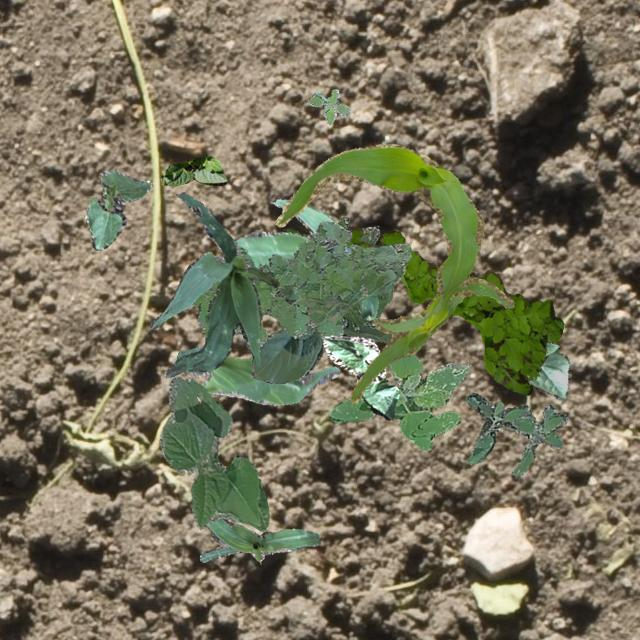crop: (274, 142, 512, 402), (148, 190, 278, 376), (251, 215, 391, 382), (235, 198, 378, 318), (158, 376, 268, 530), (176, 346, 338, 404), (321, 334, 399, 418), (85, 168, 152, 250), (198, 518, 318, 562), (528, 341, 568, 398), (160, 156, 226, 184)
weed: (278, 224, 562, 394), (192, 220, 410, 342), (328, 352, 469, 448), (466, 392, 568, 478), (306, 88, 348, 124)
